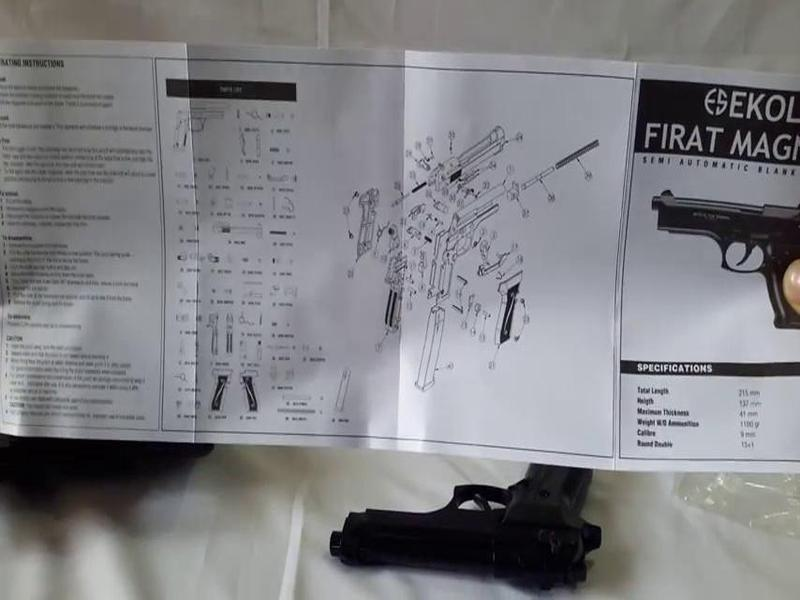Pistola: (326, 455, 636, 600)
